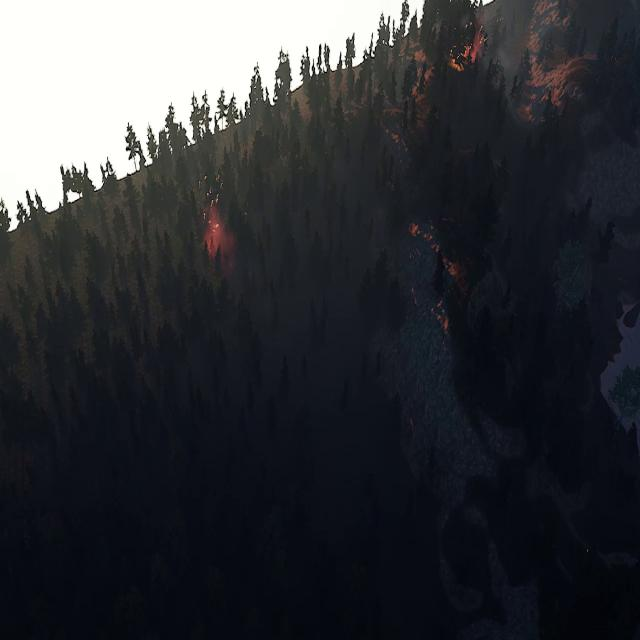fire: (202, 193, 230, 262)
